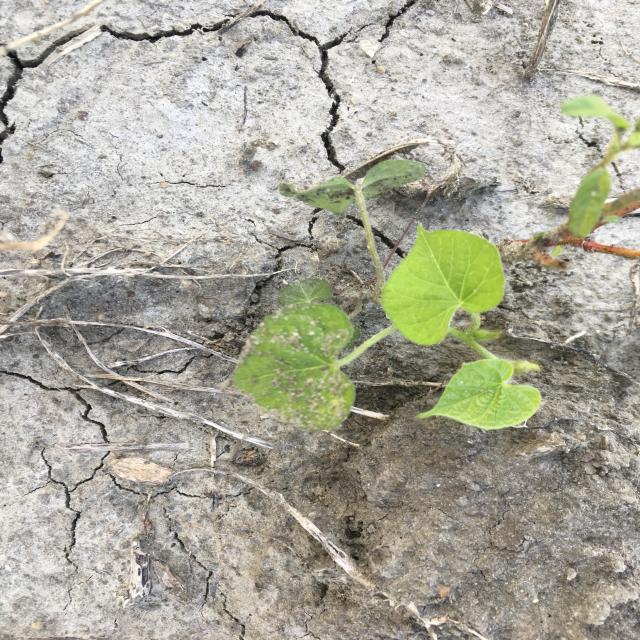MorningGlory: (216, 158, 546, 435)
